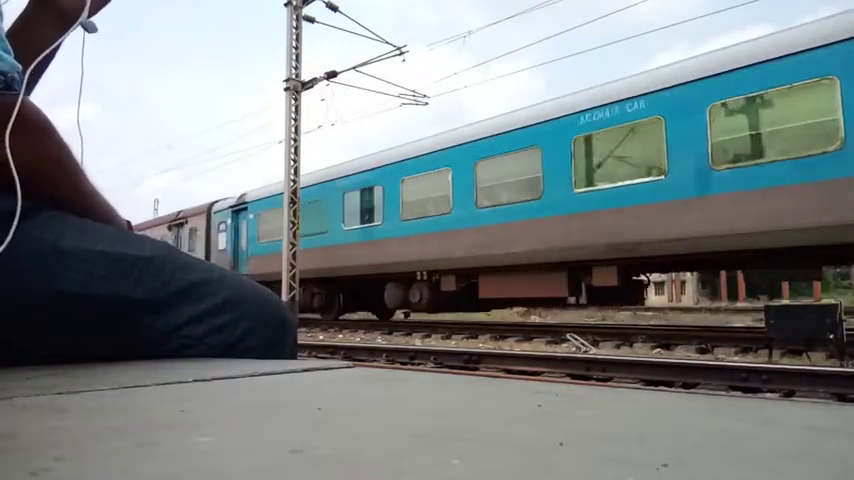Car Type: (571, 99, 651, 133)
